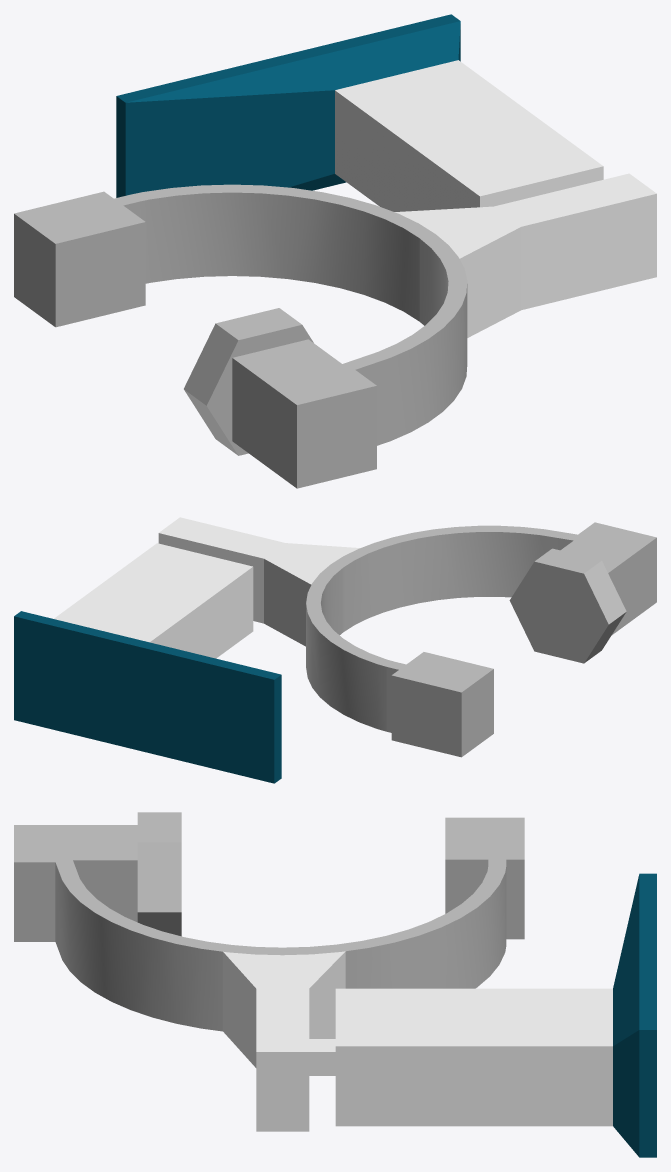
The model's file is carm.dae.
3 views of the same model, one above another, from view 1: azimuth 30°, elevation 25°; view 2: azimuth 150°, elevation 25°; view 3: azimuth 270°, elevation 25° (orthographic). The views are drawn at different scales.
Visible parts, largest first — view 1: coords_ME_ID3_MA_Color_002, coords_ME_ID25_MA_material_21, coords_ME_ID11_MA_Color_000, coords_ME_ID39_MA_Color_000, coords_ME_ID19_MA_Color_002; view 2: coords_ME_ID3_MA_Color_002, coords_ME_ID25_MA_material_21, coords_ME_ID11_MA_Color_000, coords_ME_ID19_MA_Color_002, coords_ME_ID39_MA_Color_000; view 3: coords_ME_ID3_MA_Color_002, coords_ME_ID11_MA_Color_000, coords_ME_ID39_MA_Color_000, coords_ME_ID25_MA_material_21, coords_ME_ID19_MA_Color_002, coords_ME_ID33_MA_Color_000.
Part boxes in pixels (x1=…): coords_ME_ID3_MA_Color_002: x1=14, y1=184, x2=467, y2=488; coords_ME_ID25_MA_material_21: x1=116, y1=14, x2=460, y2=197; coords_ME_ID11_MA_Color_000: x1=335, y1=60, x2=603, y2=211; coords_ME_ID39_MA_Color_000: x1=394, y1=173, x2=656, y2=337; coords_ME_ID19_MA_Color_002: x1=184, y1=308, x2=313, y2=455; coords_ME_ID3_MA_Color_002: x1=306, y1=522, x2=656, y2=757; coords_ME_ID25_MA_material_21: x1=14, y1=611, x2=281, y2=783; coords_ME_ID11_MA_Color_000: x1=54, y1=543, x2=253, y2=658; coords_ME_ID19_MA_Color_002: x1=509, y1=548, x2=626, y2=663; coords_ME_ID39_MA_Color_000: x1=158, y1=517, x2=360, y2=646; coords_ME_ID3_MA_Color_002: x1=14, y1=817, x2=524, y2=1031; coords_ME_ID11_MA_Color_000: x1=335, y1=988, x2=612, y2=1126; coords_ME_ID39_MA_Color_000: x1=223, y1=951, x2=345, y2=1131; coords_ME_ID25_MA_material_21: x1=613, y1=873, x2=656, y2=1157; coords_ME_ID19_MA_Color_002: x1=137, y1=812, x2=181, y2=936; coords_ME_ID33_MA_Color_000: x1=309, y1=1039, x2=335, y2=1075.
Bounding box in the file's own units: 22.94 × 5.67 × 25.87.
